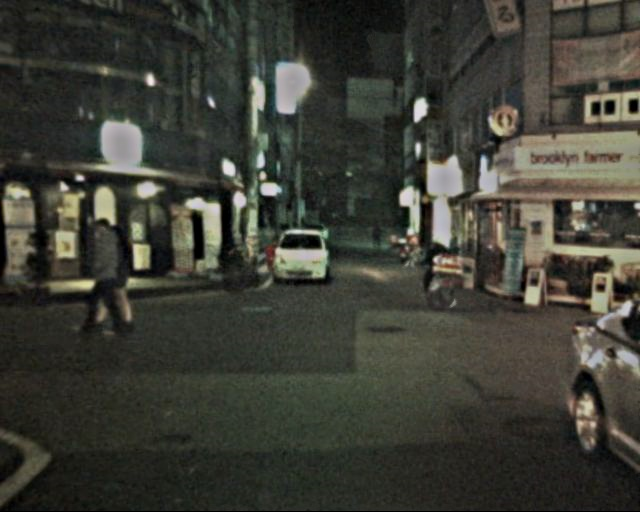person: (81, 217, 132, 334), (424, 238, 454, 317)
